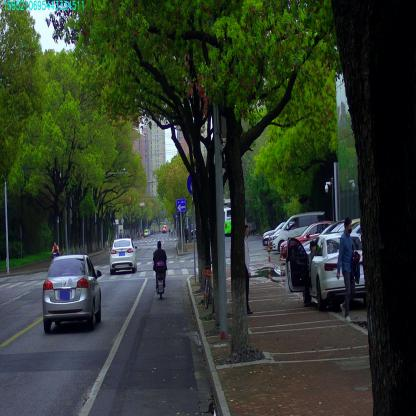traffic-light: (129, 196, 132, 205)
